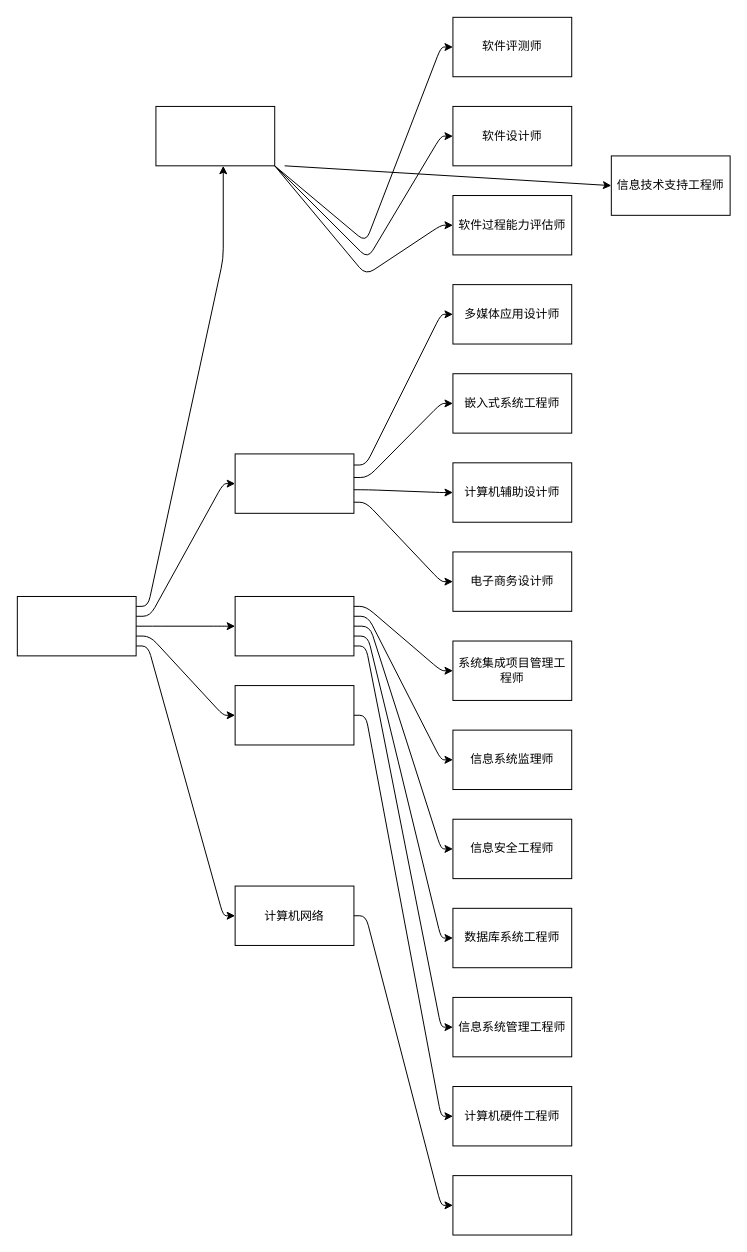
Some shapes in this 747 by 1252 pixel diagram are drawn without their labels. The box of each missing label's shape, as (x1, y1, x2, y2) in pixels:
中级资格: (16, 595, 136, 656)
信息服务: (234, 685, 354, 745)
信息系统: (234, 595, 354, 656)
网络工程师: (452, 1175, 572, 1235)
计算机应用技术: (234, 453, 354, 513)
计算机软件: (155, 105, 275, 166)
